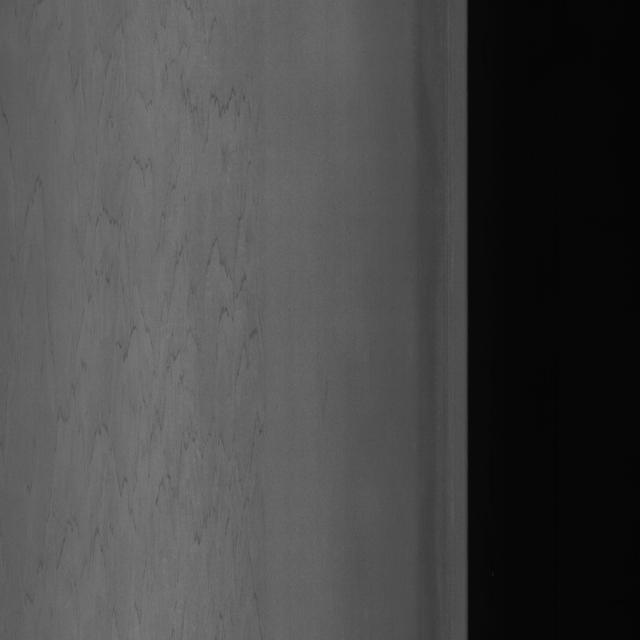inclusion: (54, 73, 276, 540)
